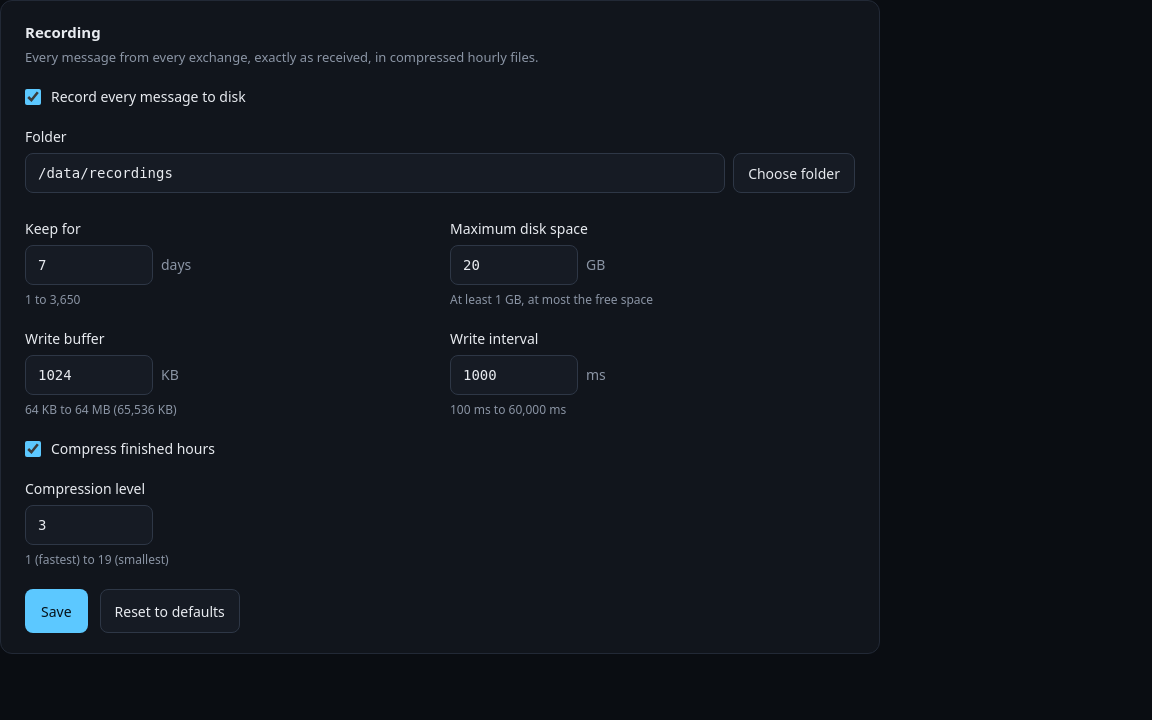
Scenario: RecordingSettingsForm › explains what happens to old recordings after a folder change
Replace the text in the field labelled "Folder" with "/elsewhere" at x=375, y=173, box [25, 153, 725, 193]
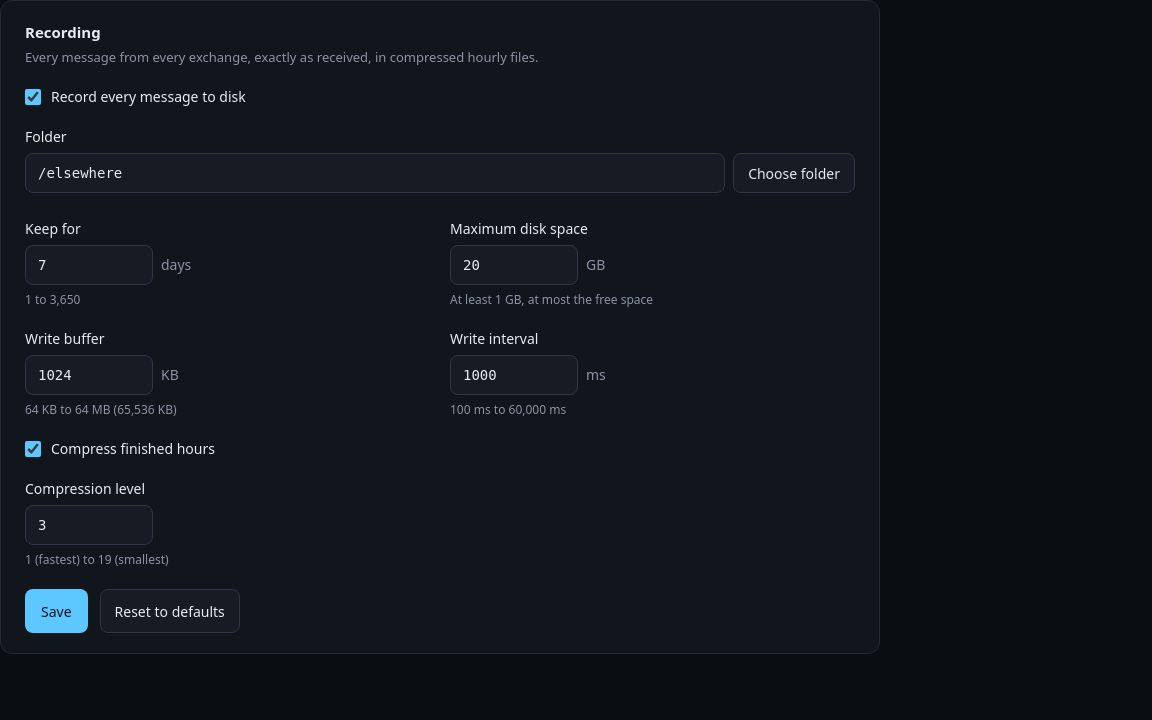
Click the button "Save" at x=56, y=611, box [25, 589, 88, 633]
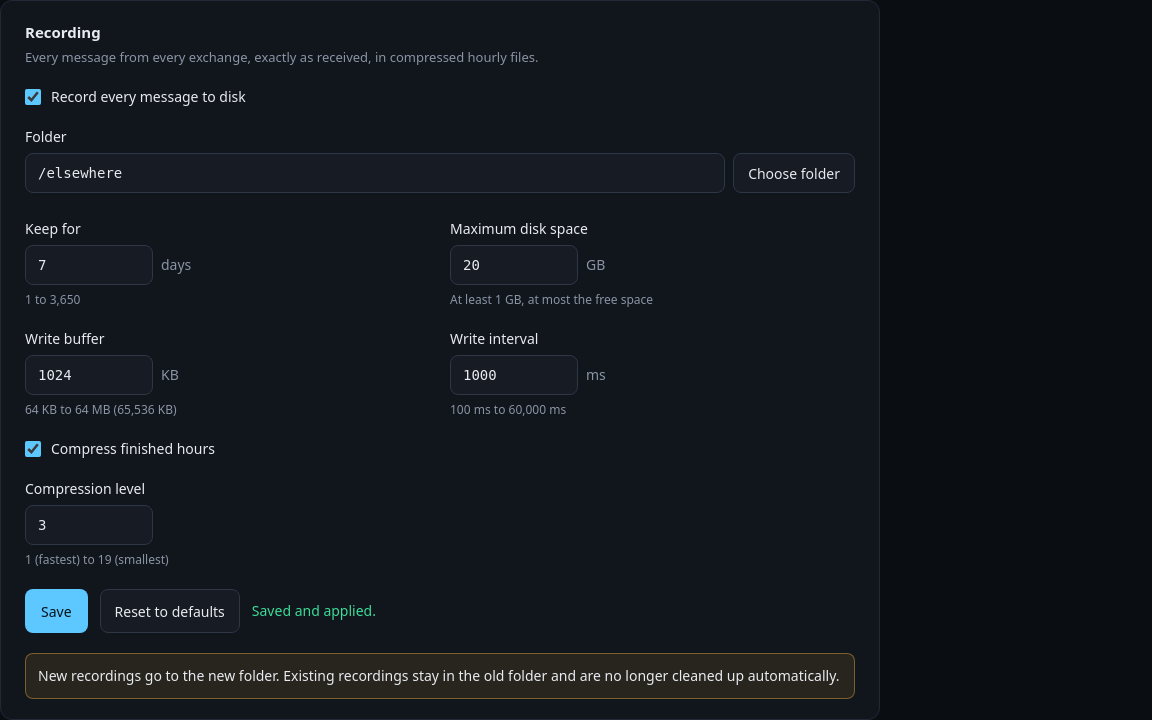
Now the message shows "New recordings go to the new folder. Existing recordings stay in the old folder and are no longer cleaned up automatically.", box [38, 666, 840, 685]
